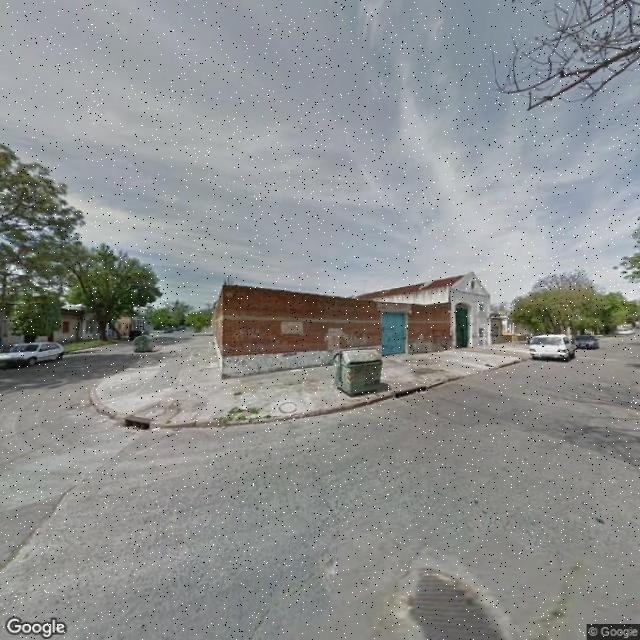garbage container: (326, 345, 396, 402)
